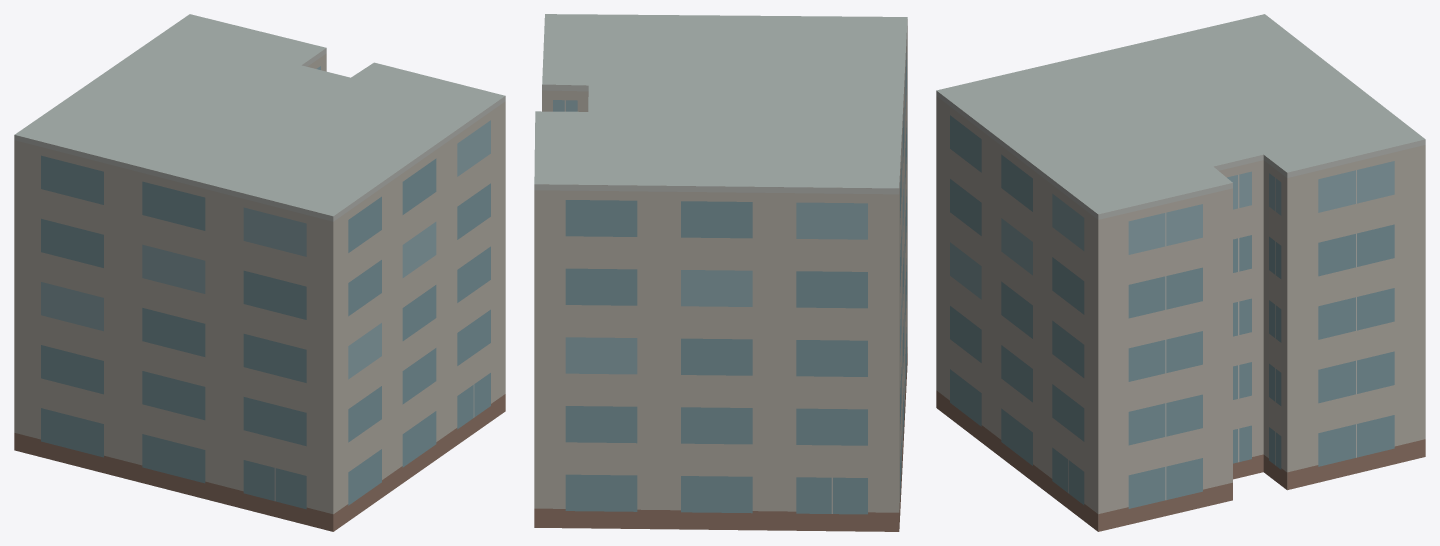
Rendered from survey-upis-32721114.glb.
3 views of the same model, side by side, from view 1: azimuth 30°, elevation 25°; view 2: azimuth 150°, elevation 25°; view 3: azimuth 270°, elevation 25° (orthographic). The views are drawn at different scales.
Parts seen in each view (by area): view 1: survey-upis-32721114.tmp; view 2: survey-upis-32721114.tmp; view 3: survey-upis-32721114.tmp.
Part boxes in pixels (x1,y1,x2,y2): survey-upis-32721114.tmp: (14,14,505,531); survey-upis-32721114.tmp: (534,14,907,531); survey-upis-32721114.tmp: (936,14,1425,531).
Size of the model in its own units: 19.24 by 14.2 by 19.85.
